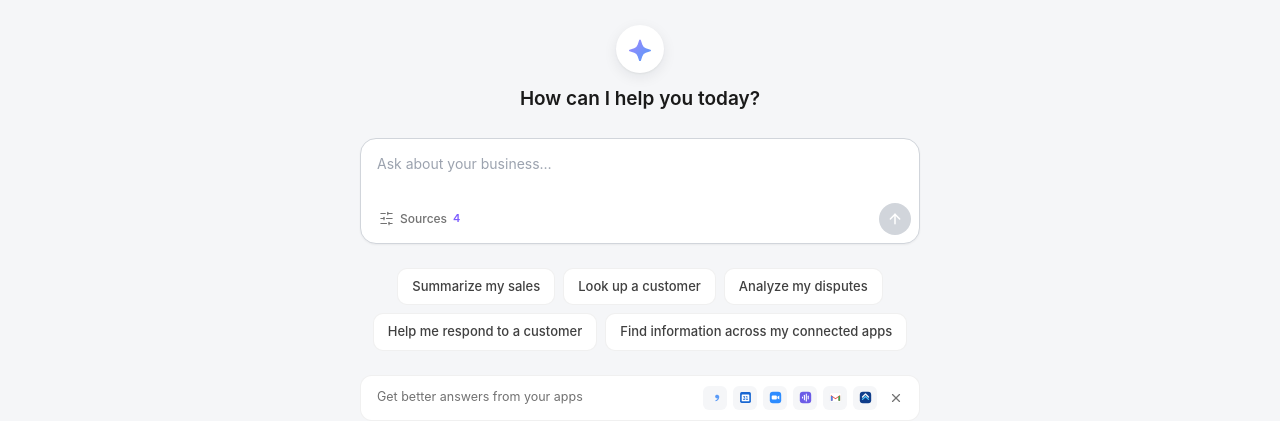
Test: chat flow (wired to the real agent backend over POST /api/agent/run) › shows a clean error state when the backend is unreachable (network failure)
The image size is (1280, 421).
Click the button "Look up a customer" at (640, 286), box [563,268,716,305]
Wait 2000 ms
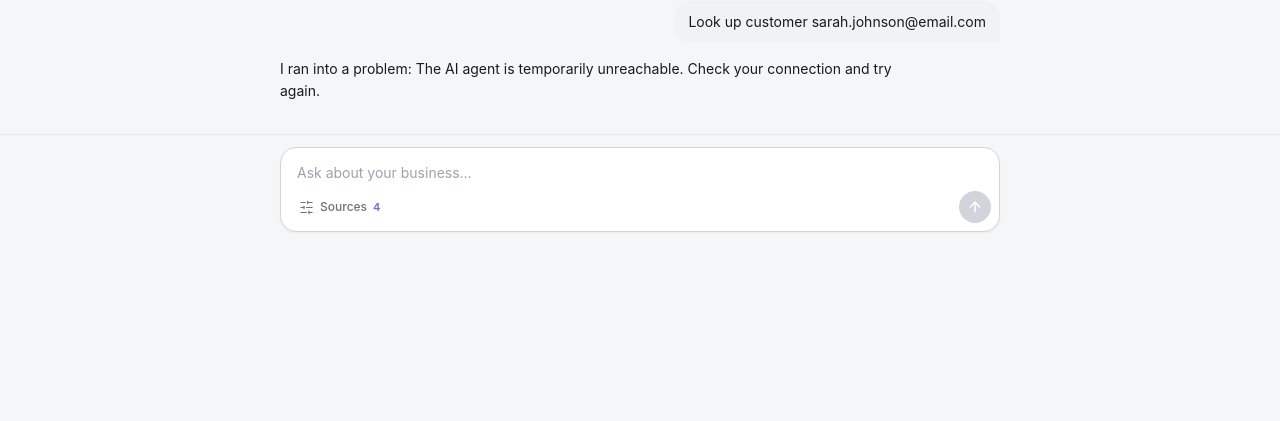
Expected: the text "temporarily unreachable" is shown, [280,60,892,99]
